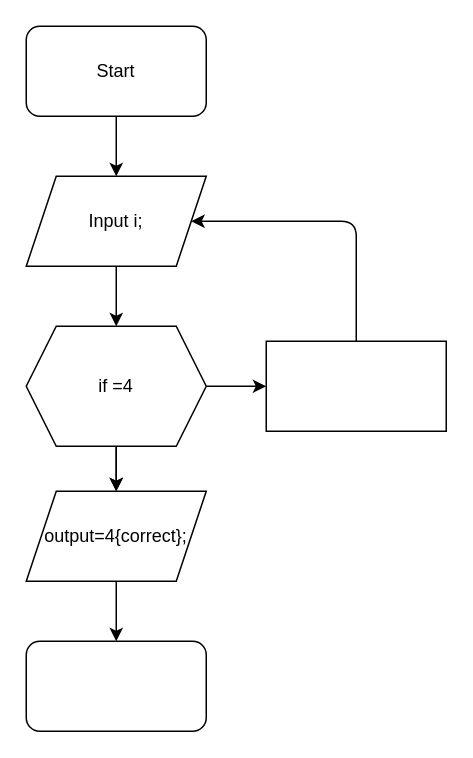
This 473x758 diagram has some shape labels left out. The shapes that lost their labels are listed below. From the top down, each one's centre as x and y in pixels, then its label:
At (355,385): "wrong input again".
At (115,685): "End".
